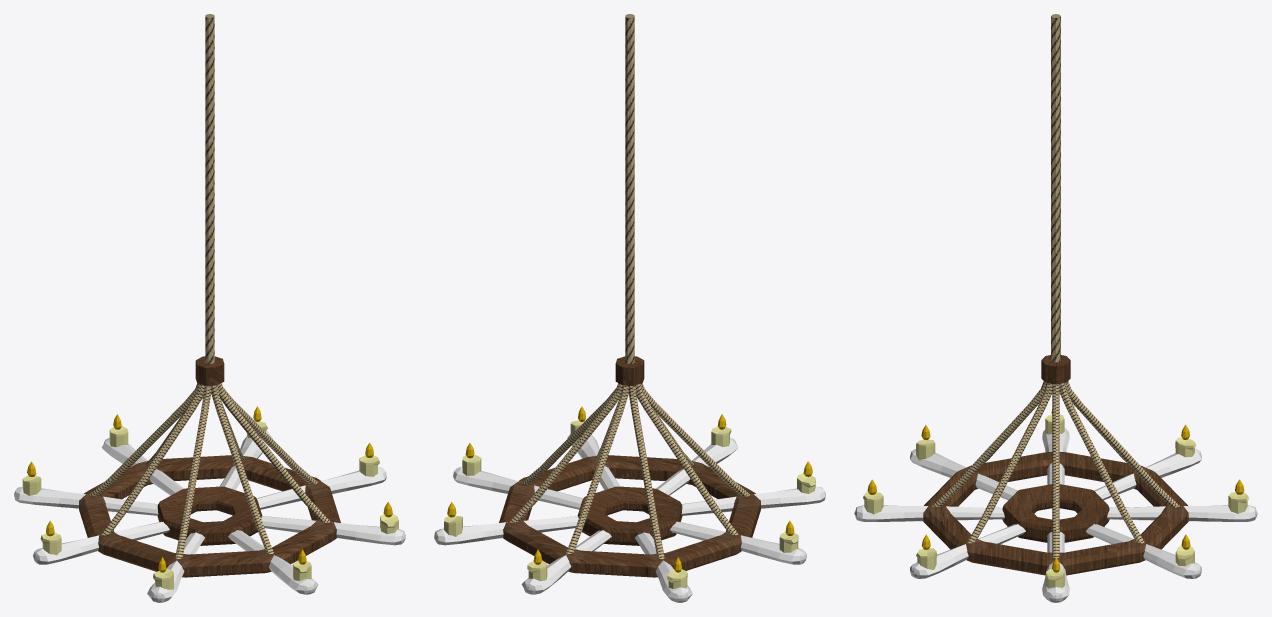
The model's file is chandelier03.fbx.
3 renders of one model, left to right at view 1: azimuth 30°, elevation 25°; view 2: azimuth 150°, elevation 25°; view 3: azimuth 270°, elevation 25°, orthographic.
Visible parts, largest first — view 1: Circle, Circle.001, Cylinder.026, Cylinder.005, Cylinder.007, Cylinder.002, Cylinder, Cylinder.021, Cylinder.025, Cylinder.024, Cylinder.023, Cylinder.001 (+6 smaller); view 2: Circle, Circle.001, Cylinder.026, Cylinder.004, Cylinder.006, Cylinder.002, Cylinder, Cylinder.021, Cylinder.009, Cylinder.019, Cylinder.020, Cylinder.003 (+6 smaller); view 3: Circle, Circle.001, Cylinder.026, Cylinder.003, Cylinder.001, Cylinder.004, Cylinder.020, Cylinder.023, Cylinder.005, Cylinder.022, Cylinder.019, Cylinder.024 (+5 smaller).
Boxes of the visible parts, x1=… form: Circle: x1=79, y1=455, x2=340, y2=577; Circle.001: x1=157, y1=486, x2=262, y2=545; Cylinder.026: x1=205, y1=14, x2=214, y2=363; Cylinder.005: x1=261, y1=516, x2=405, y2=545; Cylinder.007: x1=14, y1=487, x2=158, y2=515; Cylinder.002: x1=33, y1=521, x2=169, y2=564; Cylinder: x1=256, y1=467, x2=386, y2=509; Cylinder.021: x1=102, y1=384, x2=204, y2=535; Cylinder.025: x1=175, y1=385, x2=211, y2=558; Cylinder.024: x1=211, y1=385, x2=273, y2=553; Cylinder.023: x1=217, y1=383, x2=330, y2=522; Cylinder.001: x1=228, y1=530, x2=318, y2=594; Circle: x1=499, y1=455, x2=760, y2=577; Circle.001: x1=577, y1=486, x2=682, y2=545; Cylinder.026: x1=625, y1=14, x2=634, y2=363; Cylinder.004: x1=434, y1=516, x2=578, y2=545; Cylinder.006: x1=681, y1=486, x2=825, y2=515; Cylinder.002: x1=670, y1=521, x2=806, y2=564; Cylinder: x1=453, y1=467, x2=583, y2=509; Cylinder.021: x1=635, y1=384, x2=737, y2=535; Cylinder.009: x1=628, y1=385, x2=664, y2=558; Cylinder.019: x1=566, y1=385, x2=628, y2=553; Cylinder.020: x1=509, y1=383, x2=622, y2=522; Cylinder.003: x1=521, y1=530, x2=611, y2=594; Circle: x1=923, y1=452, x2=1188, y2=575; Circle.001: x1=1002, y1=484, x2=1109, y2=542; Cylinder.026: x1=1051, y1=14, x2=1060, y2=362; Cylinder.003: x1=1107, y1=505, x2=1257, y2=521; Cylinder.001: x1=854, y1=505, x2=1004, y2=521; Cylinder.004: x1=1086, y1=524, x2=1201, y2=578; Cylinder.020: x1=1059, y1=383, x2=1144, y2=543; Cylinder.023: x1=967, y1=383, x2=1052, y2=543; Cylinder.005: x1=910, y1=524, x2=1025, y2=578; Cylinder.022: x1=1052, y1=384, x2=1059, y2=557; Cylinder.019: x1=1065, y1=381, x2=1179, y2=507; Cylinder.024: x1=932, y1=381, x2=1046, y2=507.
Bounding box in the file's own units: 2047 × 2832 × 2047.
Materials: 11 (5 with a texture image).
